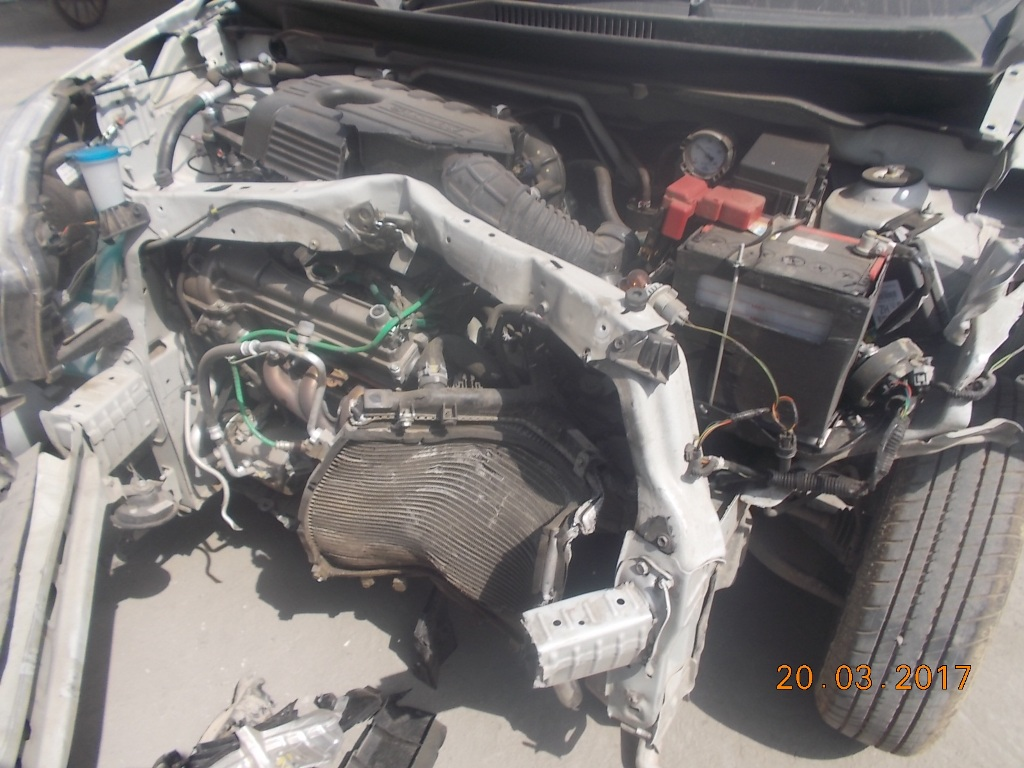Large_tear_or_damage: (17, 35, 1019, 648)
